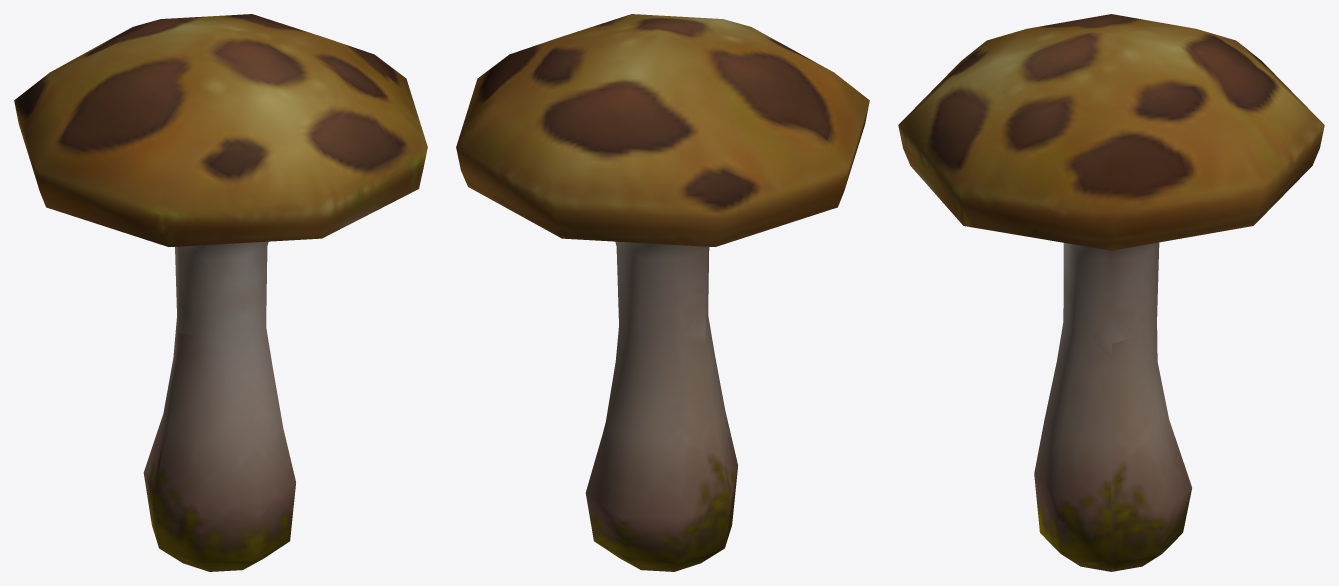
The model's file is Wujian_mugu_002.FBX.
The picture shows the model from 3 angles, left to right: view 1: azimuth 30°, elevation 25°; view 2: azimuth 150°, elevation 25°; view 3: azimuth 270°, elevation 25°; orthographic projection.
Parts seen in each view (by area): view 1: Wujian_mugu_002; view 2: Wujian_mugu_002; view 3: Wujian_mugu_002.
Part boxes in pixels (box(x1,y1,x2,y2)): Wujian_mugu_002: box(14, 14, 427, 571); Wujian_mugu_002: box(456, 14, 869, 571); Wujian_mugu_002: box(898, 14, 1324, 571).
Size of the model in its own units: 84.19 by 116 by 84.19.
